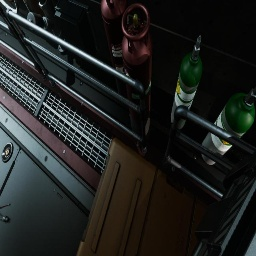0: (201, 86, 256, 165), (171, 35, 202, 130)
NitrogenTank ,: (121, 3, 153, 136), (101, 0, 129, 99)
